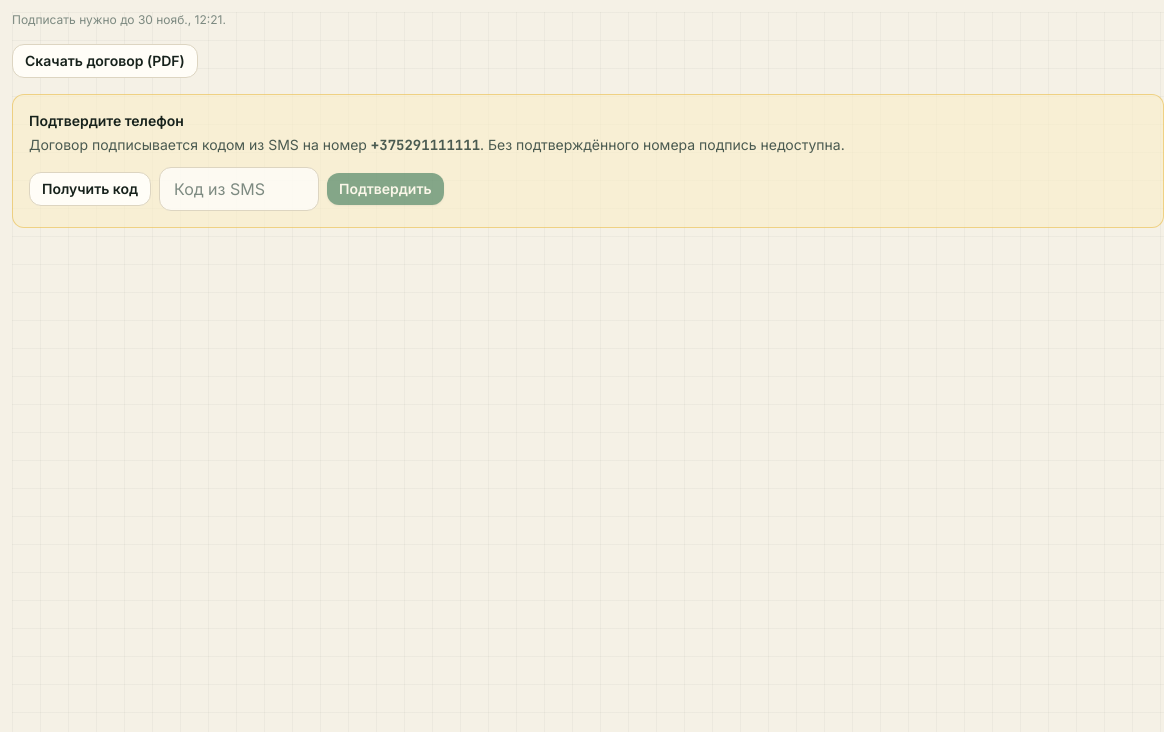
Test: ContractSigning › offers phone verification as a fallback for an unverified legacy application
expect the text "Подтвердите телефон" is shown: met, box top-left (29, 112), bottom-right (184, 129)
expect the button "Получить код по SMS" is not shown: met
Type "1234" into the field with placeholder "Код из SMS". click: [239, 189]
box: top-left (160, 168), bottom-right (318, 210)
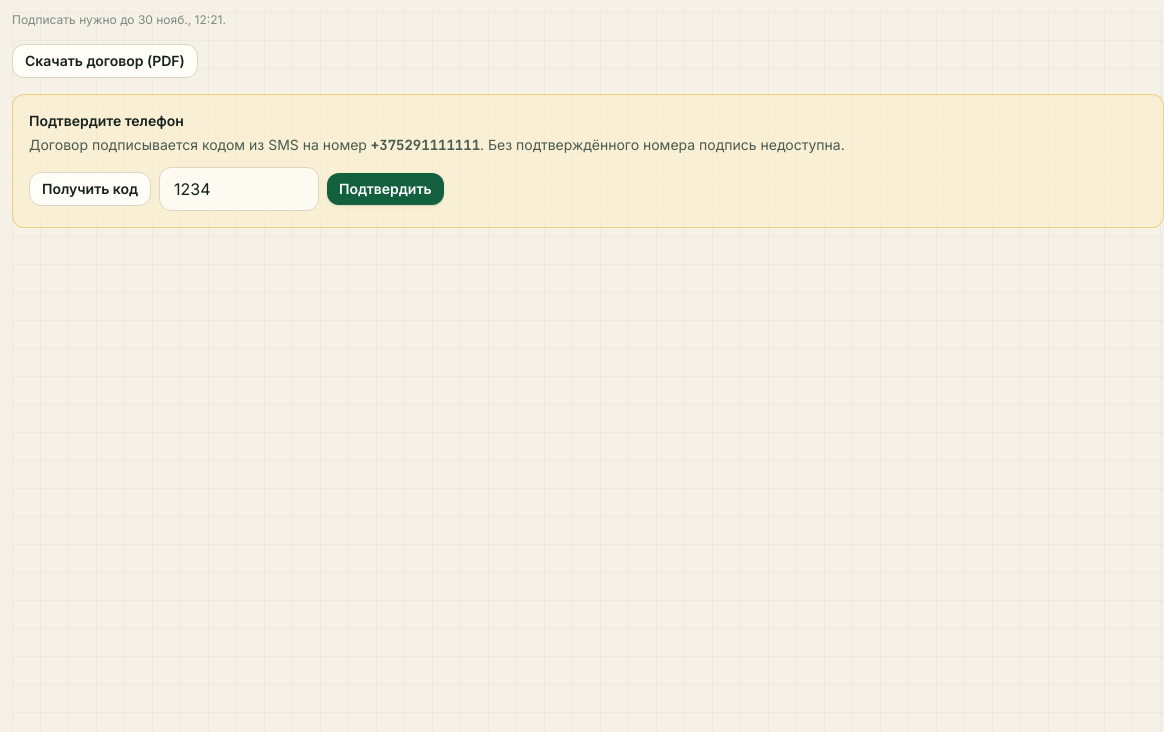
Click the button "Подтвердить". click: [385, 189]
box: top-left (327, 173), bottom-right (444, 205)
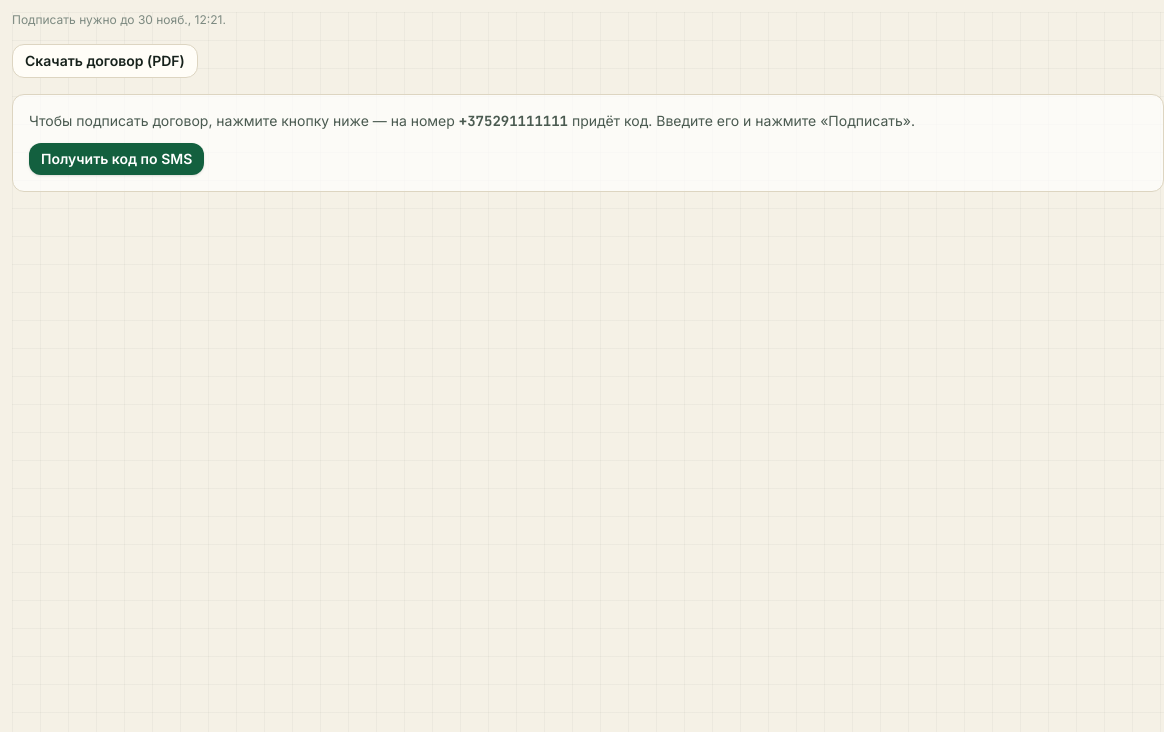
expect the button "Получить код по SMS" is shown: met, box top-left (29, 143), bottom-right (204, 175)
expect the text "Подтвердите телефон" is gone: met
